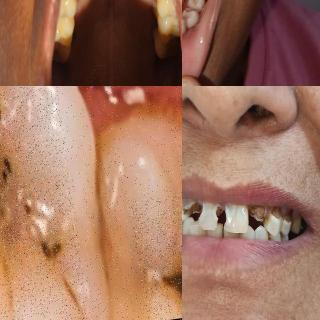cavities: (0, 86, 75, 320), (130, 193, 182, 320), (224, 199, 248, 231), (247, 198, 271, 224), (187, 196, 205, 224), (269, 202, 283, 225), (208, 203, 222, 225), (281, 207, 295, 227), (182, 201, 188, 221)
stains: (263, 230, 274, 244)
